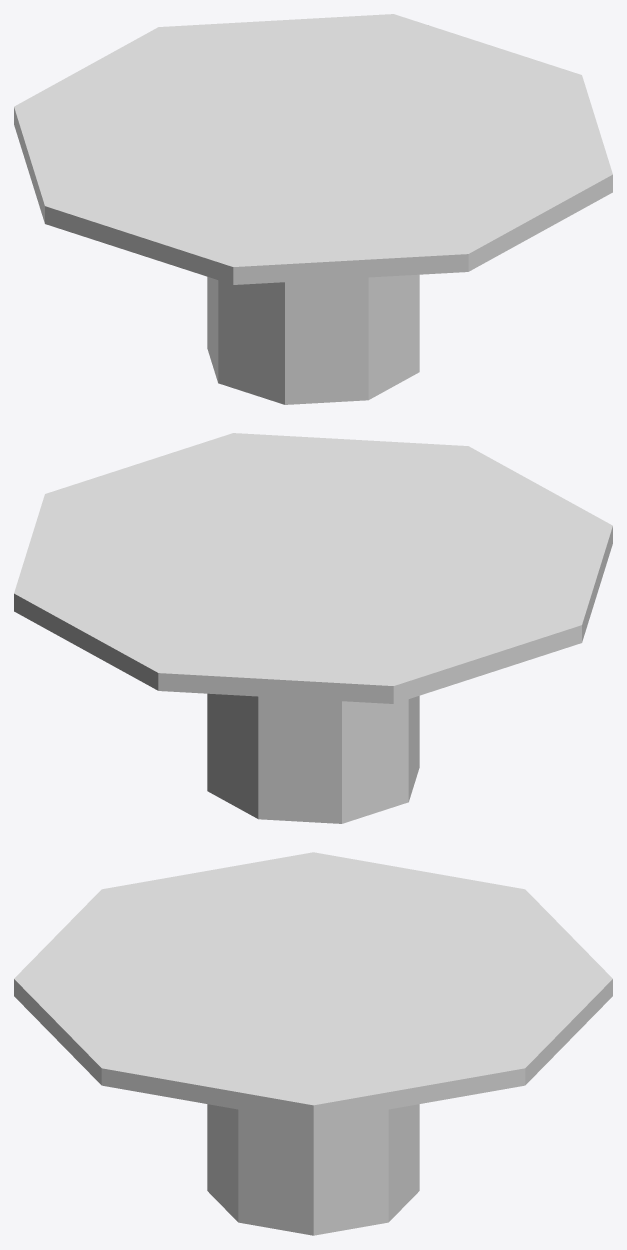
The model's file is ban1.fbx.
The picture shows the model from 3 angles, top to bottom: view 1: azimuth 30°, elevation 25°; view 2: azimuth 150°, elevation 25°; view 3: azimuth 270°, elevation 25°; orthographic projection. The views are drawn at different scales.
Parts seen in each view (by area): view 1: ban1; view 2: ban1; view 3: ban1.
Part boxes in pixels (left/top/right/bottom): ban1: left=14, top=14, right=612, bottom=404; ban1: left=14, top=433, right=612, bottom=823; ban1: left=14, top=852, right=612, bottom=1235.
Bounding box in the file's own units: 345 × 135 × 345.
